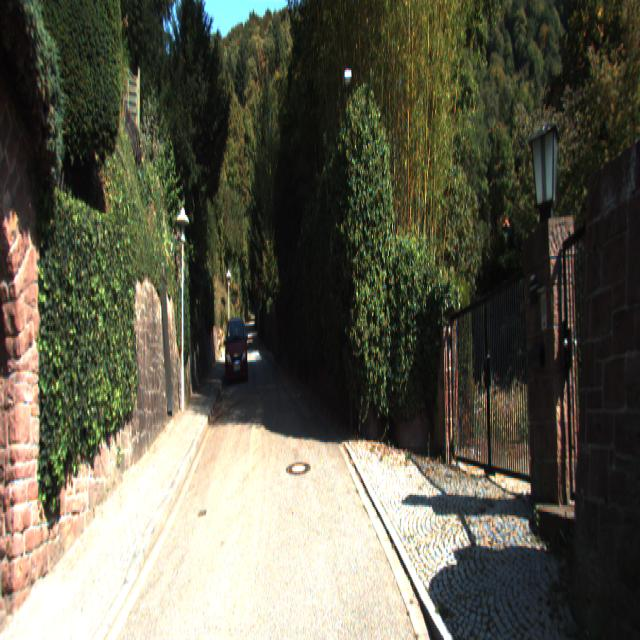Car: (224, 317, 247, 390)
